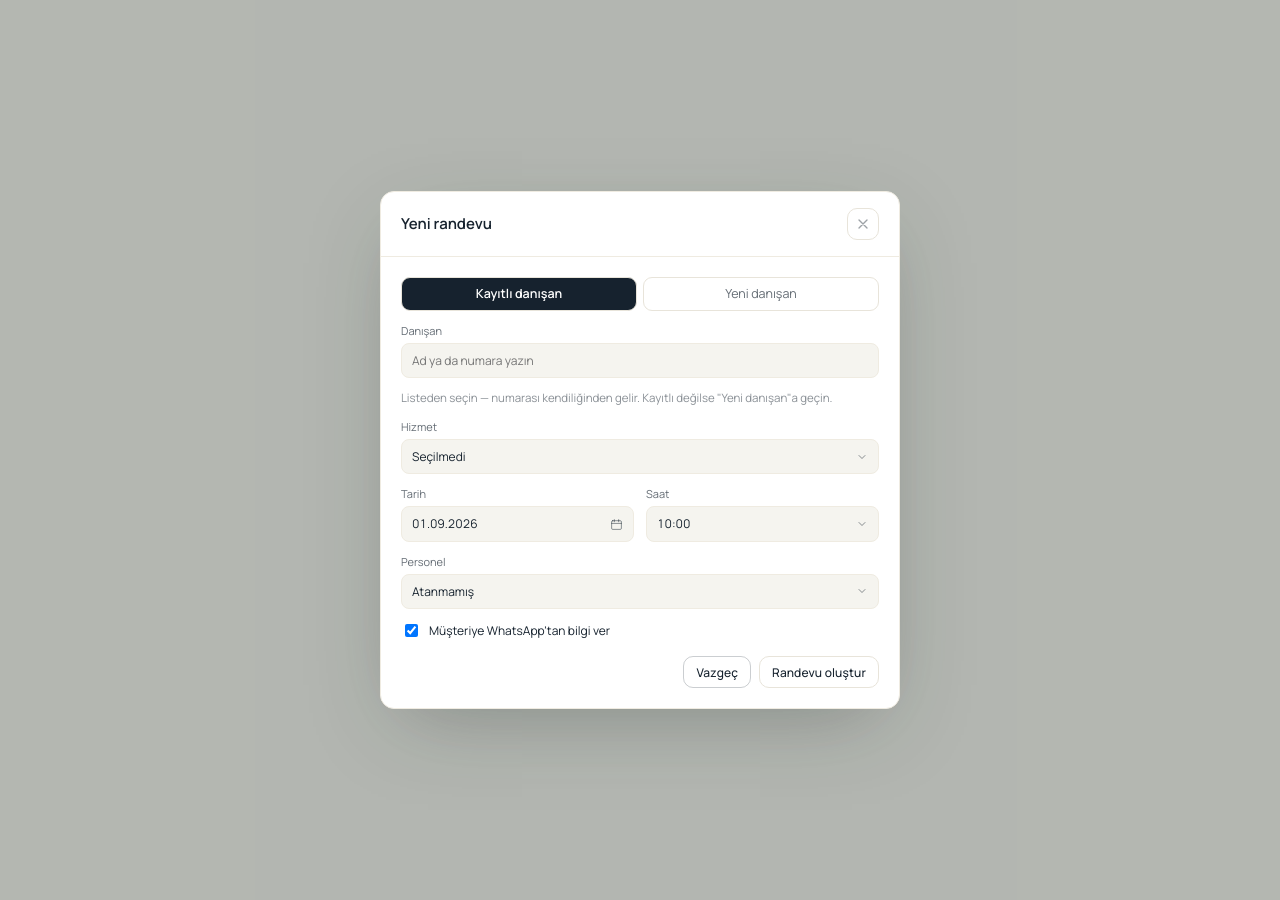
AppointmentModal · kayıtlı danışan › seçim yapılmadan kaydedilirse ne yapılacağını söylüyor
Expected: the dropdown labelled "Danışan" is shown, [401,343,879,378]
Click the button "Randevu oluştur": (819, 672) [759,656,879,688]
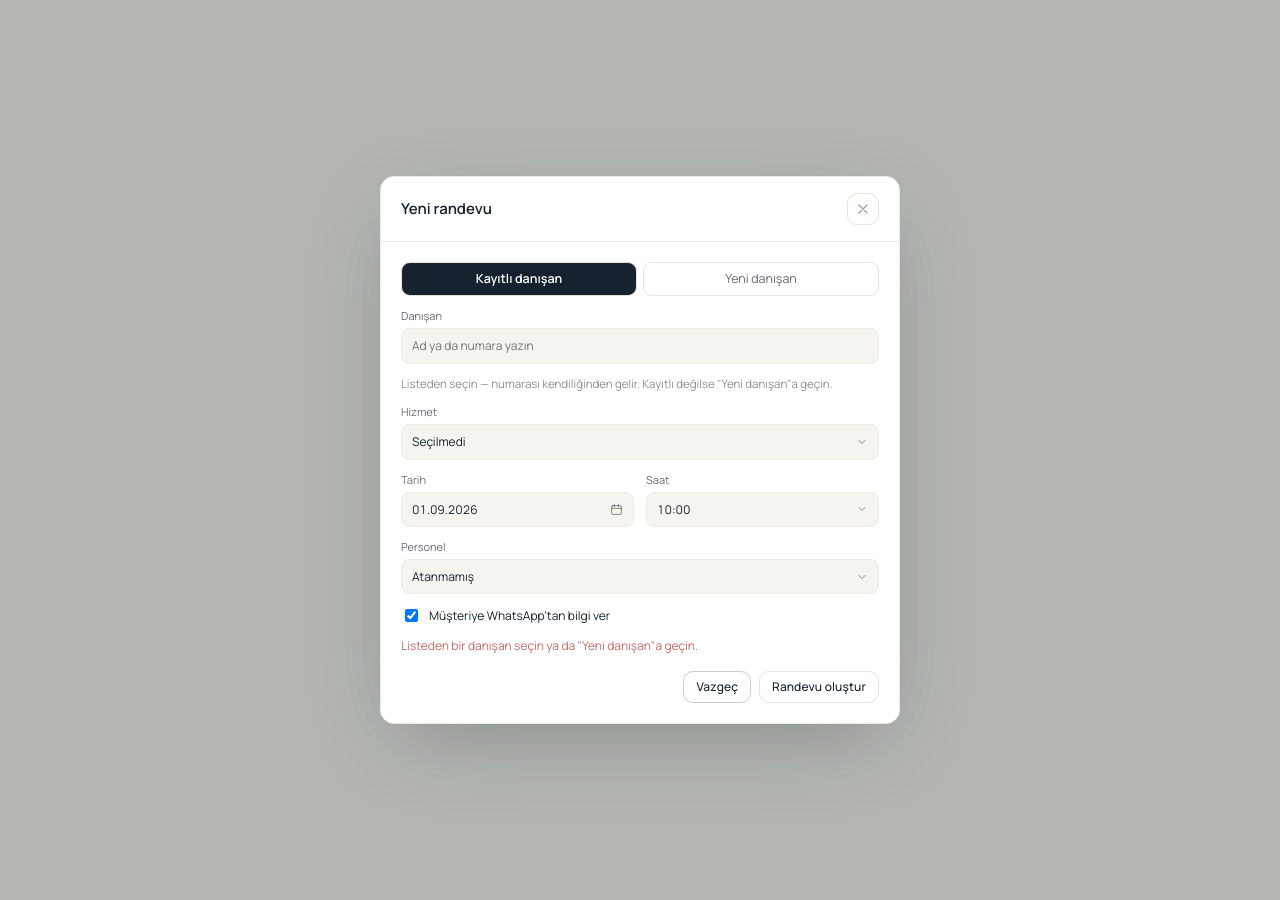
Now the text "Listeden bir danışan seçin ya da \"Yeni danışan\"a geçin." is shown, box [401,637,698,654]
